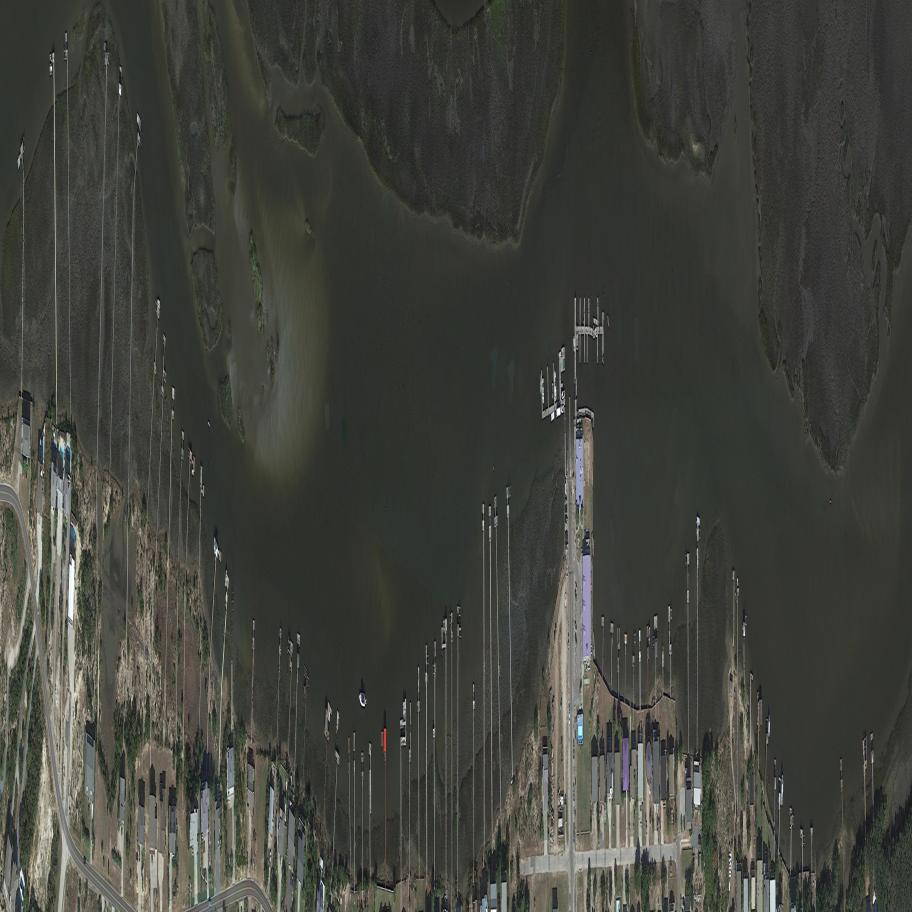ship: (554, 368, 557, 404), (781, 775, 784, 809), (359, 692, 365, 707), (606, 312, 610, 330), (213, 536, 216, 555), (768, 713, 770, 739), (542, 378, 544, 404), (157, 296, 161, 309), (604, 801, 606, 825), (92, 796, 94, 818), (225, 569, 227, 590), (403, 702, 405, 721), (573, 335, 575, 353), (561, 405, 564, 415), (562, 391, 565, 400), (559, 349, 561, 359), (649, 625, 650, 645)
small-vehicle: (578, 677, 583, 696), (574, 632, 578, 650), (134, 852, 140, 864), (574, 588, 578, 603), (141, 860, 144, 878), (560, 697, 563, 713), (574, 622, 577, 637), (91, 819, 93, 841), (269, 850, 271, 869), (640, 809, 642, 827), (290, 869, 292, 887), (267, 864, 269, 882), (671, 809, 673, 825), (670, 861, 672, 877), (695, 811, 697, 826), (268, 849, 270, 864), (575, 582, 577, 596), (565, 517, 568, 525), (83, 858, 86, 866), (208, 900, 211, 908), (574, 825, 575, 844), (569, 707, 570, 725), (139, 844, 140, 862), (697, 811, 698, 827), (657, 817, 658, 832), (568, 636, 569, 650), (565, 507, 567, 514), (681, 898, 682, 912), (646, 822, 647, 835), (565, 499, 567, 505)
